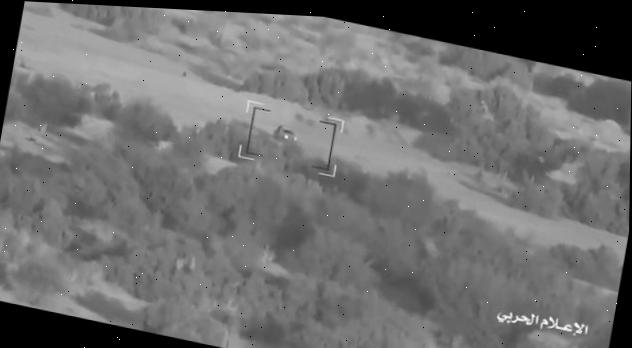car: (272, 123, 298, 144)
